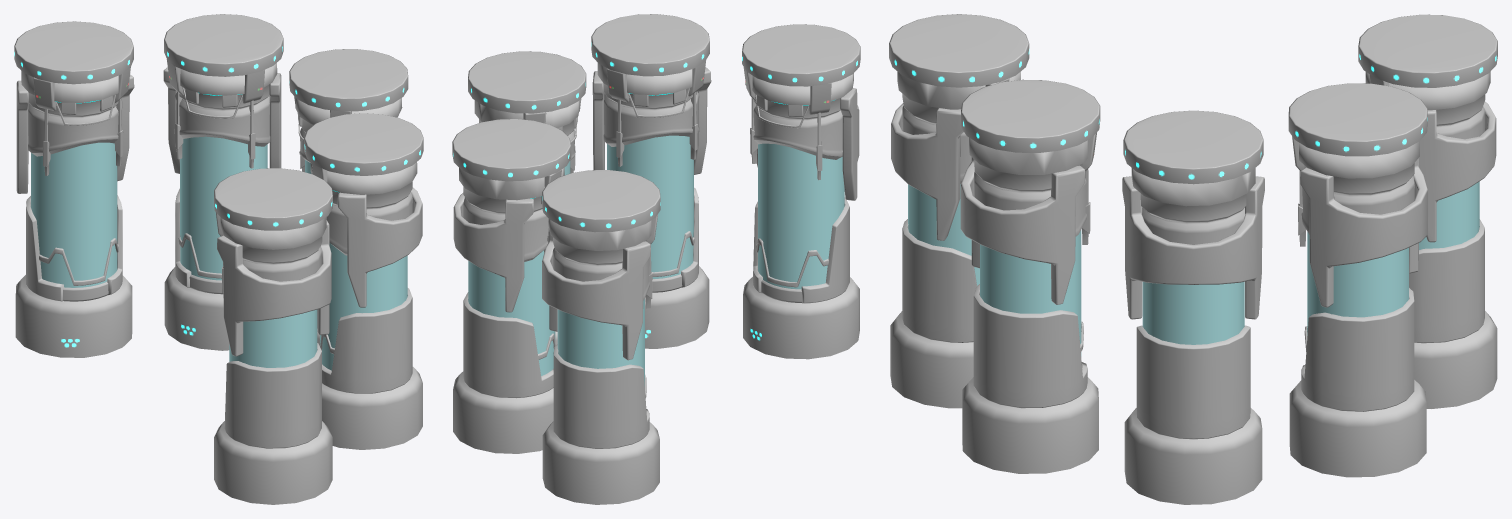
Rendered from Mesh_Zats_Tubes.fbx.
3 views of the same model, side by side, from view 1: azimuth 30°, elevation 25°; view 2: azimuth 150°, elevation 25°; view 3: azimuth 270°, elevation 25° (orthographic). The views are drawn at different scales.
Visible parts, largest first — view 1: Mesh_Zats_Tubes_04, Mesh_Zats_Tubes_03, Mesh_Zats_Tubes_02, Mesh_Zats_Tubes_05, Mesh_Zats_Tubes_01; view 2: Mesh_Zats_Tubes_03, Mesh_Zats_Tubes_04, Mesh_Zats_Tubes_05, Mesh_Zats_Tubes_02, Mesh_Zats_Tubes_01; view 3: Mesh_Zats_Tubes_01, Mesh_Zats_Tubes_05, Mesh_Zats_Tubes_02, Mesh_Zats_Tubes_03, Mesh_Zats_Tubes_04.
Boxes of the visible parts, x1=… form: Mesh_Zats_Tubes_04: x1=14, y1=21, x2=134, y2=357; Mesh_Zats_Tubes_03: x1=214, y1=168, x2=332, y2=504; Mesh_Zats_Tubes_02: x1=304, y1=113, x2=423, y2=449; Mesh_Zats_Tubes_05: x1=163, y1=14, x2=283, y2=350; Mesh_Zats_Tubes_01: x1=289, y1=49, x2=408, y2=345; Mesh_Zats_Tubes_03: x1=742, y1=24, x2=860, y2=359; Mesh_Zats_Tubes_04: x1=542, y1=170, x2=660, y2=504; Mesh_Zats_Tubes_05: x1=452, y1=119, x2=571, y2=453; Mesh_Zats_Tubes_02: x1=591, y1=14, x2=711, y2=348; Mesh_Zats_Tubes_01: x1=468, y1=51, x2=586, y2=345; Mesh_Zats_Tubes_01: x1=1122, y1=110, x2=1264, y2=504; Mesh_Zats_Tubes_05: x1=1288, y1=83, x2=1427, y2=477; Mesh_Zats_Tubes_02: x1=960, y1=79, x2=1100, y2=473; Mesh_Zats_Tubes_03: x1=889, y1=14, x2=1029, y2=408; Mesh_Zats_Tubes_04: x1=1358, y1=14, x2=1497, y2=408.
Size of the model in its own units: 99.96 by 99.04 by 161.
